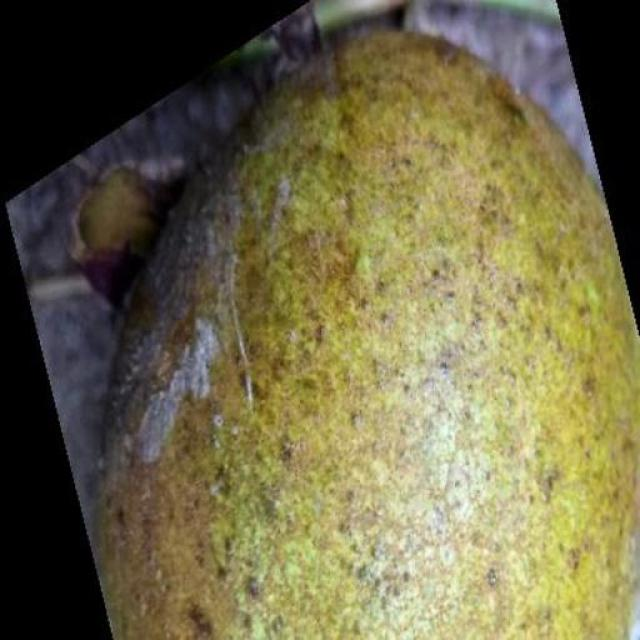Scab: (100, 2, 640, 639)
